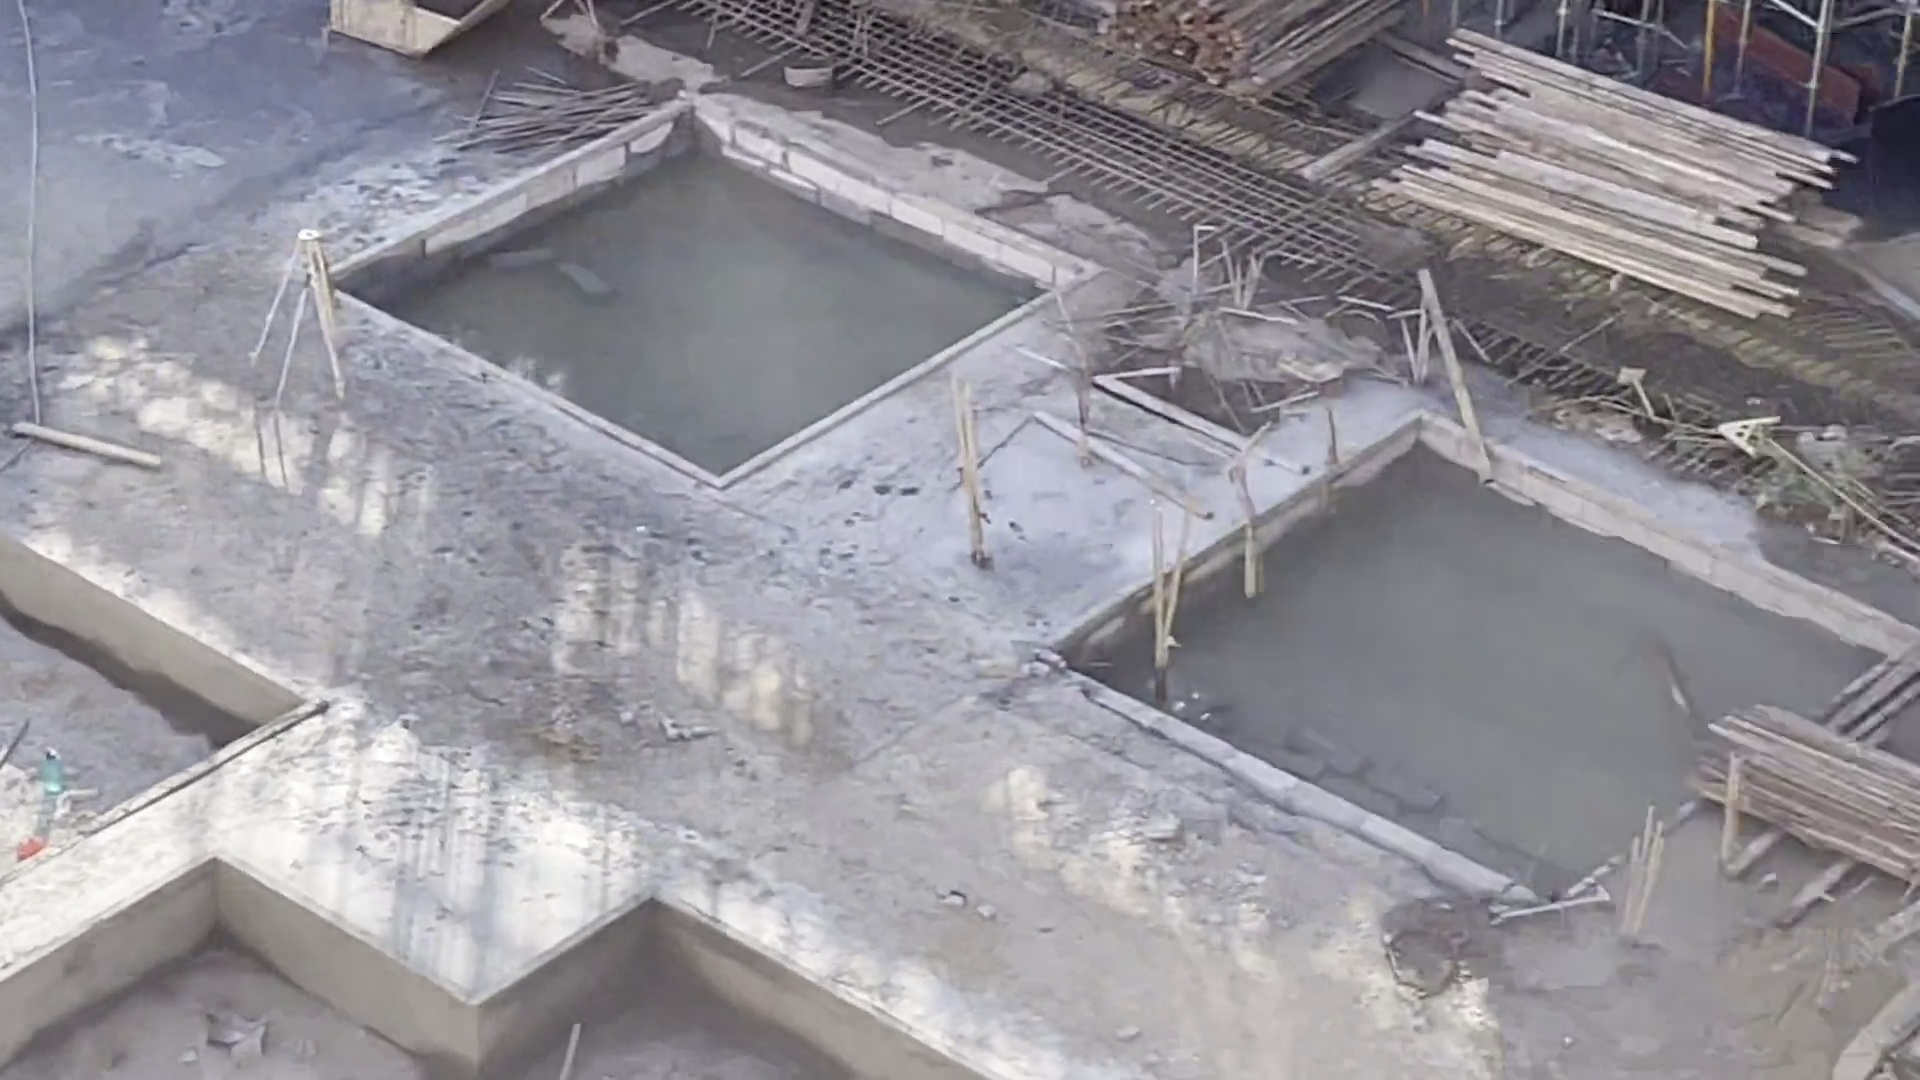wood: (1389, 9, 1865, 334)
